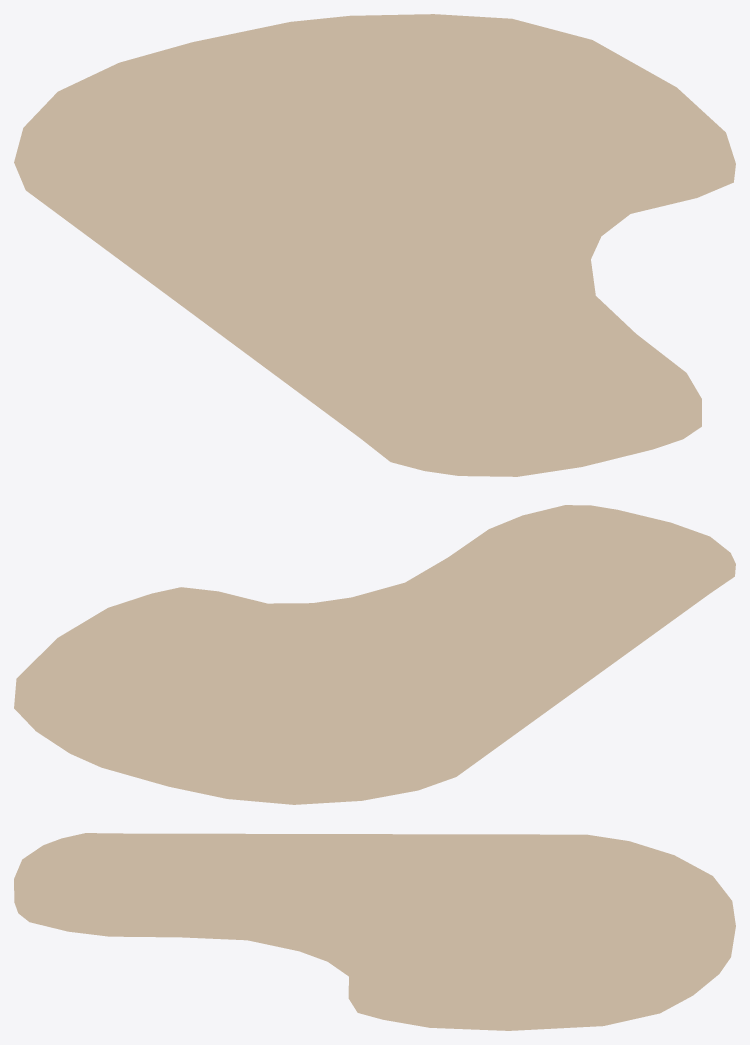
Rendered from Pool_Plane.fbx.
3 renders of one model, top to bottom at view 1: azimuth 30°, elevation 25°; view 2: azimuth 150°, elevation 25°; view 3: azimuth 270°, elevation 25°, orthographic. The views are drawn at different scales.
Parts seen in each view (by area): view 1: Pool_Plane; view 2: Pool_Plane; view 3: Pool_Plane.
Part boxes in pixels (bbox=[...]): Pool_Plane: bbox=[14, 14, 735, 476]; Pool_Plane: bbox=[14, 505, 735, 804]; Pool_Plane: bbox=[14, 833, 735, 1030].
Bounding box in the file's own units: 1012 × 6.82e-05 × 1560.
